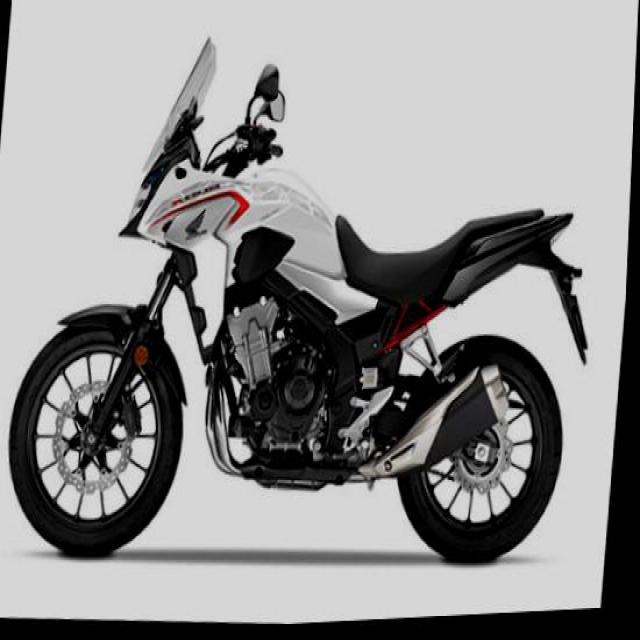CB500X: (2, 7, 619, 598)
